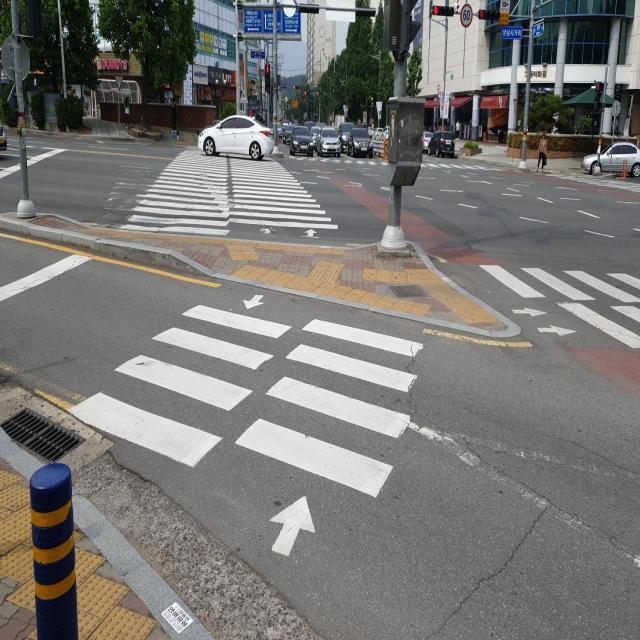빨간불: (594, 80, 602, 118), (263, 62, 271, 94)
횡단보도: (66, 290, 425, 562), (121, 146, 340, 240), (481, 265, 640, 353)
